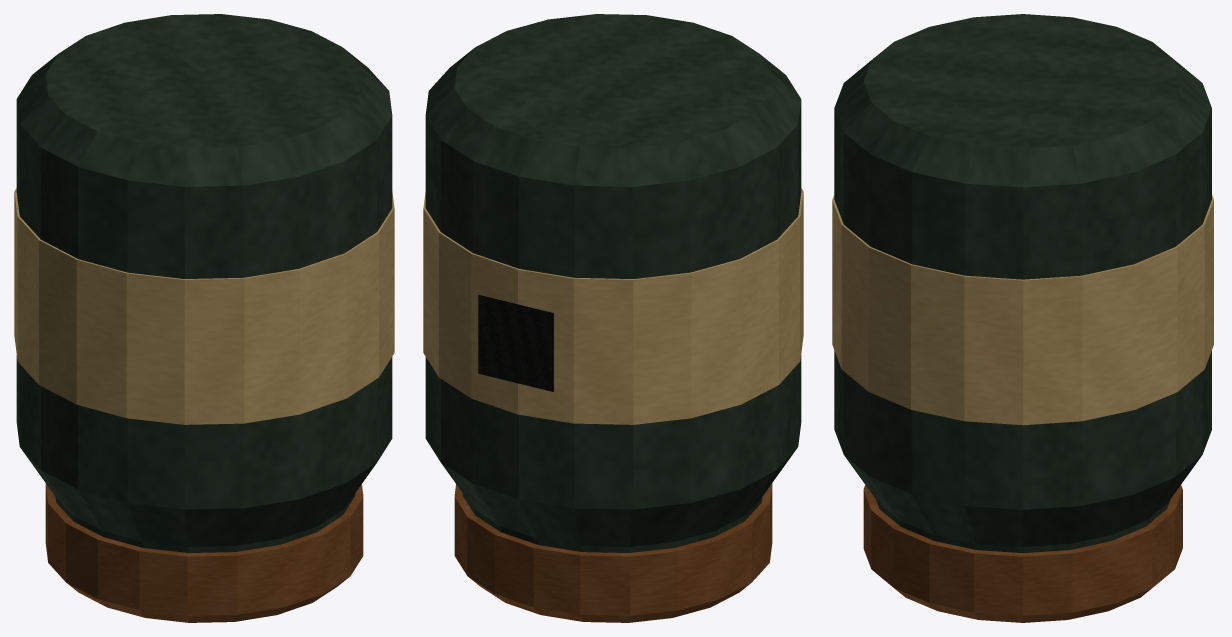
Rendered from AuxAmmoSurvivalPropellant.fbx.
3 renders of one model, left to right at view 1: azimuth 30°, elevation 25°; view 2: azimuth 150°, elevation 25°; view 3: azimuth 270°, elevation 25°, orthographic.
Visible parts, largest first — view 1: AuxAmmoSurvivalPropellant_export; view 2: AuxAmmoSurvivalPropellant_export; view 3: AuxAmmoSurvivalPropellant_export.
Part boxes in pixels (x1,y1,x2,y2): AuxAmmoSurvivalPropellant_export: [14, 14, 394, 622]; AuxAmmoSurvivalPropellant_export: [423, 14, 803, 622]; AuxAmmoSurvivalPropellant_export: [832, 14, 1213, 622].
Bounding box in the file's own units: 5.26 × 5.31 × 7.3.
